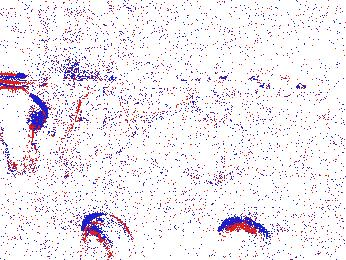flame jellyfish: (1, 86, 49, 177), (218, 206, 284, 260), (75, 211, 134, 260)
